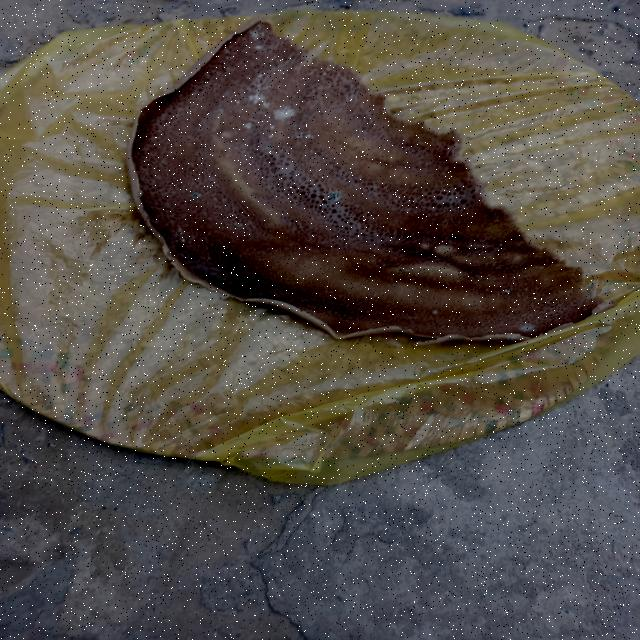injera_mold: (250, 74, 271, 105), (273, 106, 296, 120), (247, 27, 265, 41), (325, 189, 343, 203), (293, 131, 315, 142), (518, 323, 536, 332), (232, 220, 245, 228), (215, 108, 225, 117), (190, 192, 202, 199), (243, 122, 253, 130), (254, 44, 264, 50), (504, 288, 511, 294), (235, 100, 241, 106), (269, 126, 277, 130), (268, 134, 274, 139)
